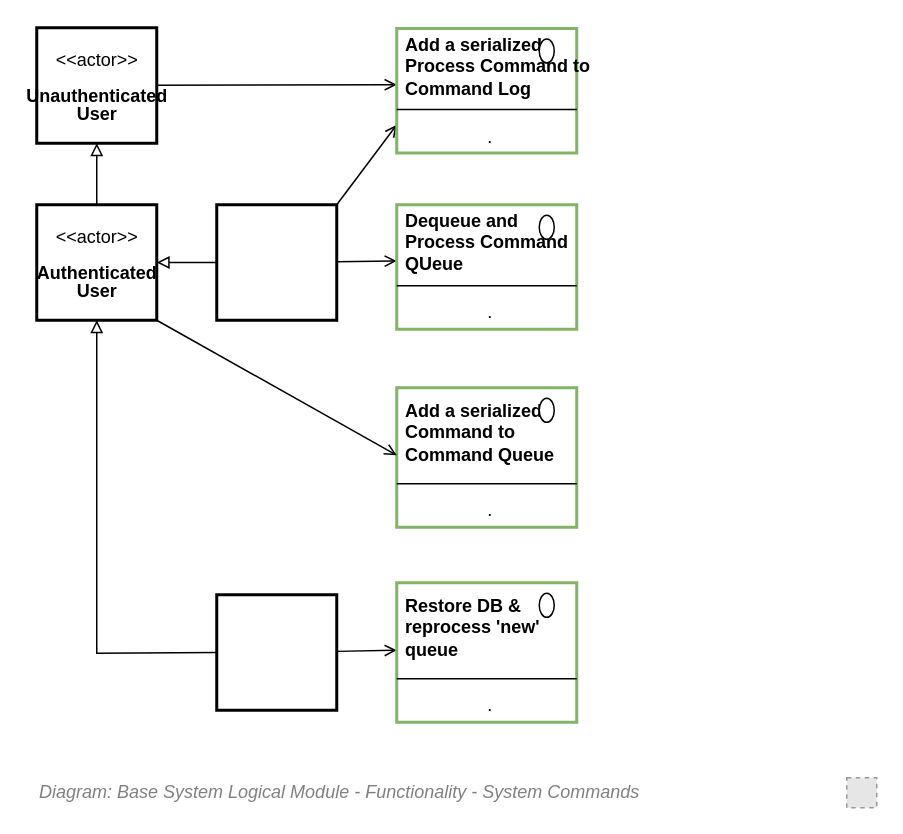
Image size: 903x834. Some labels were removed from this diagram. Grey dashed boxes stand in for pictures. Each missing label, with the centre of its shape:
"<<actor>> Deployment Specialist" belongs at point 276,651.
"<<actor>> System Daemon" belongs at point 276,261.
